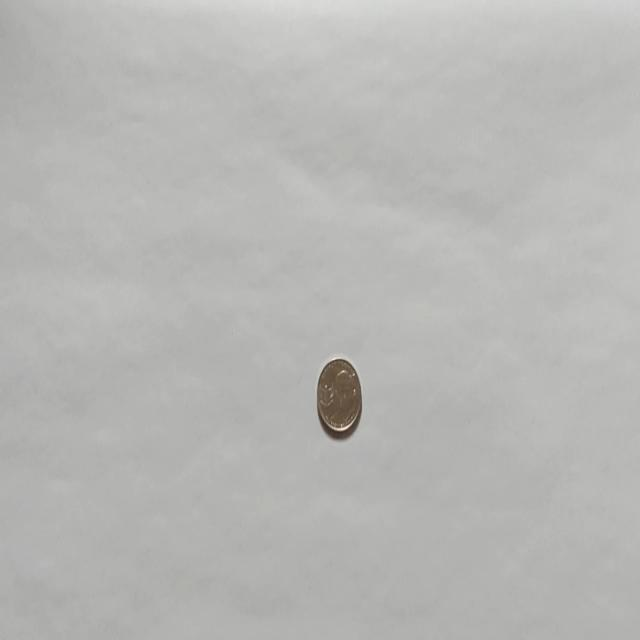seribu rupiah koin: (316, 356, 362, 434)
